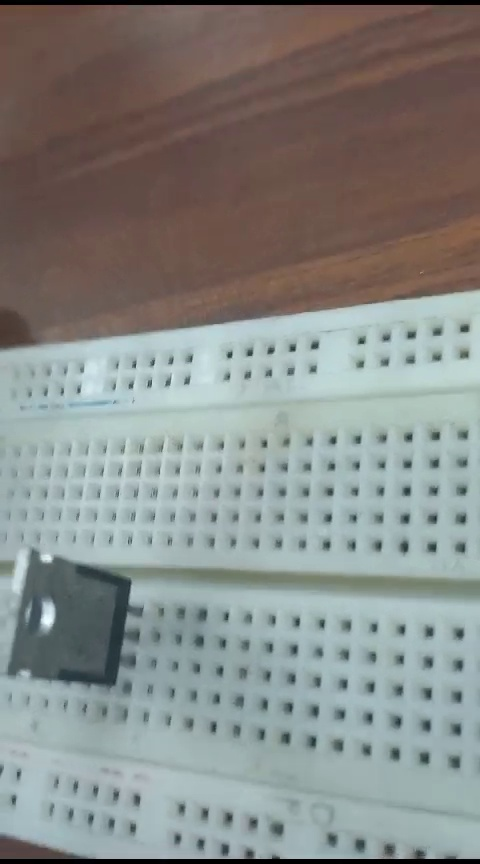voltage regulator: (9, 537, 152, 695)
